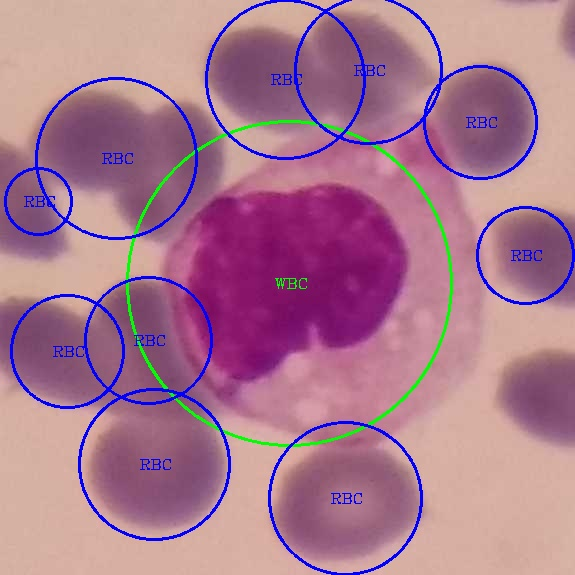RBC: (265, 435, 427, 564), (89, 275, 218, 419), (87, 400, 225, 531), (113, 99, 229, 245), (302, 12, 436, 126), (189, 22, 325, 127), (0, 289, 116, 410), (26, 88, 155, 193), (432, 61, 536, 176), (486, 203, 573, 320), (489, 343, 573, 459), (0, 137, 72, 268)
WBC: (154, 114, 484, 444)
